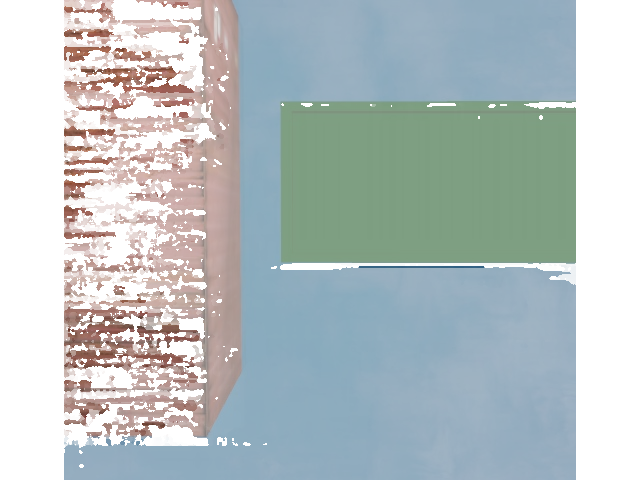container2: (0, 0, 247, 444), (280, 91, 617, 268)
